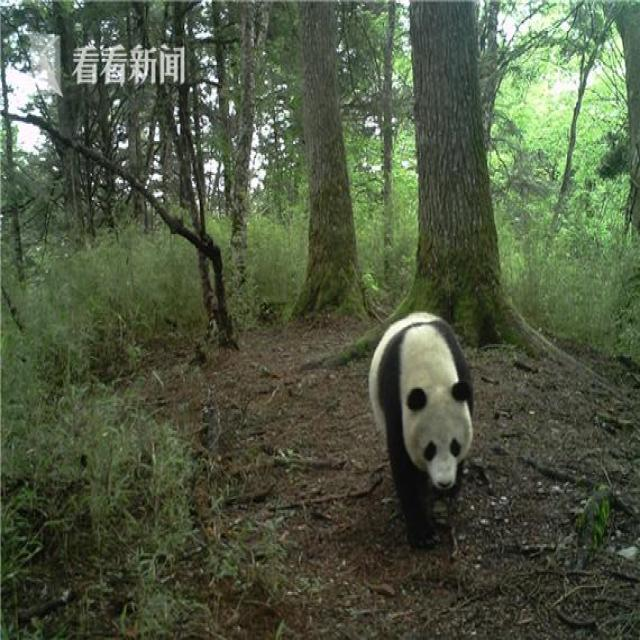panda: (365, 306, 477, 549)
